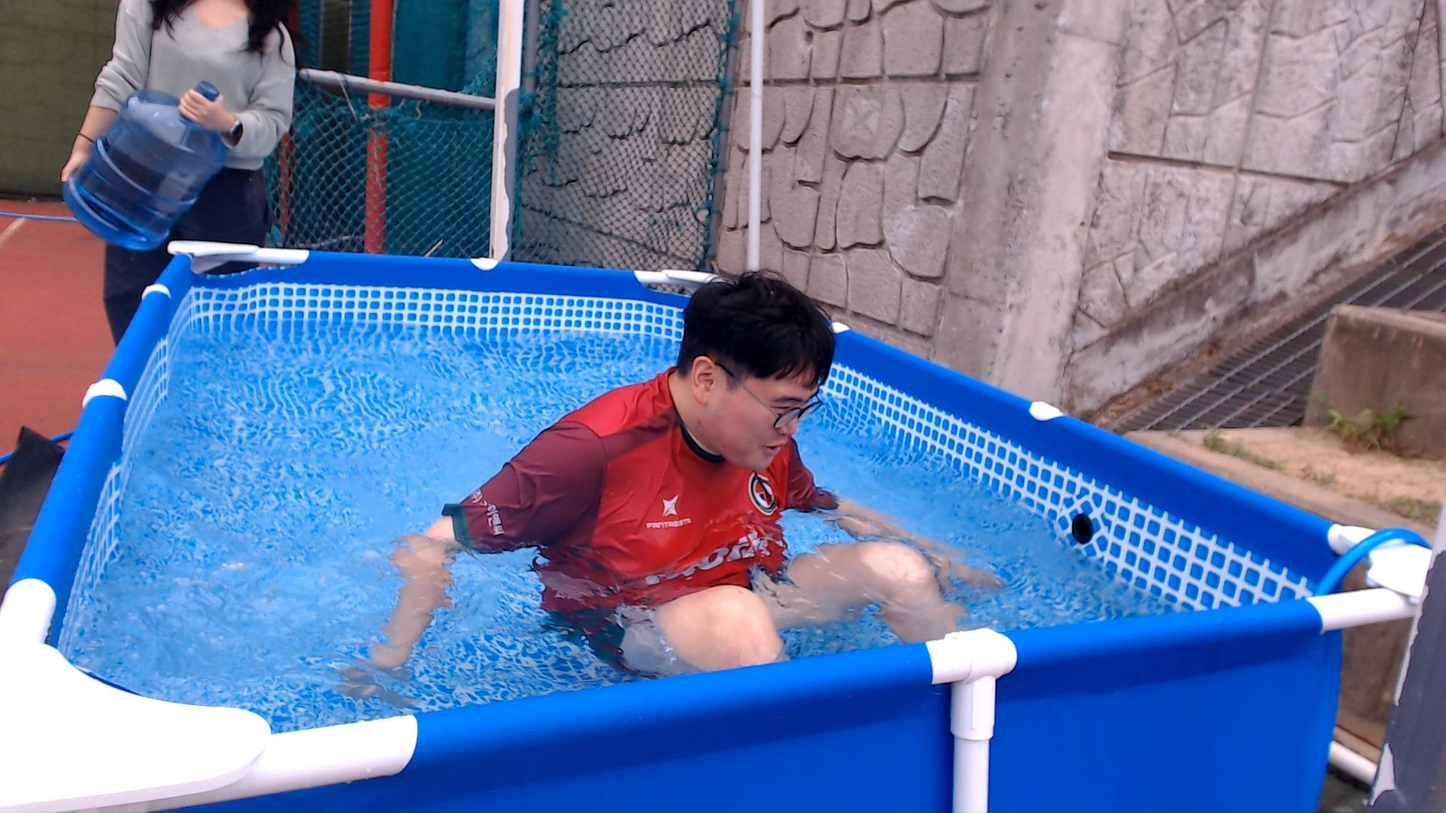Swimming: (345, 232, 1009, 694)
